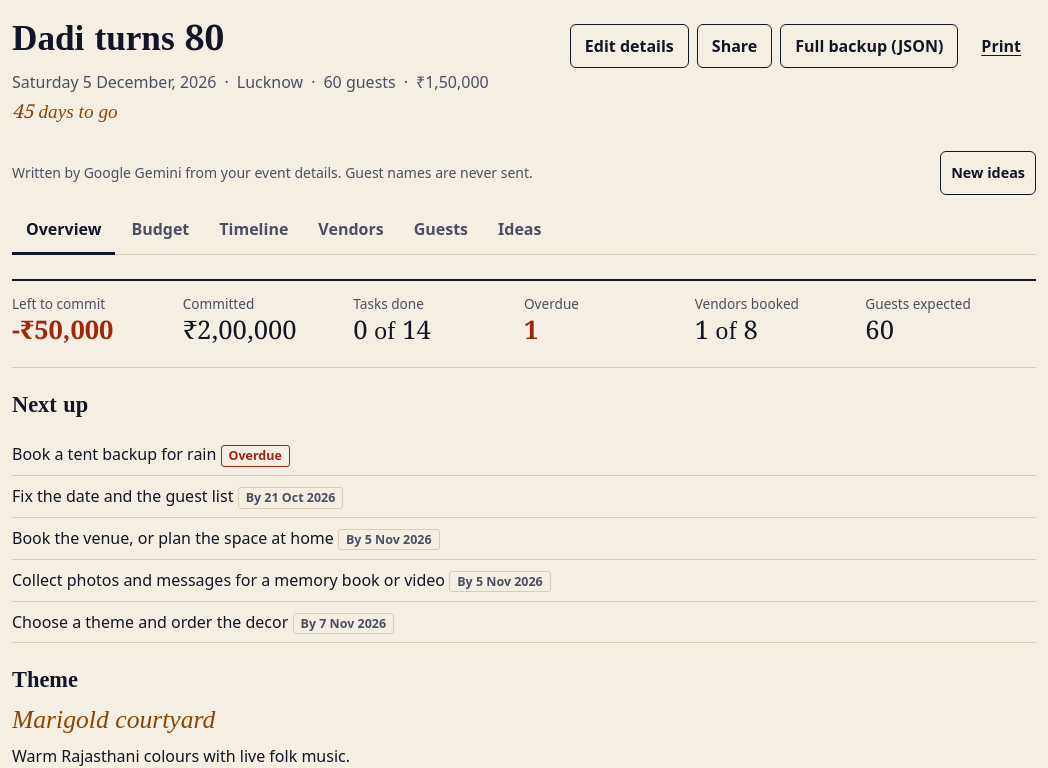
Test: budget › disables the limits and flags bookings over plan and over budget
The image size is (1048, 768).
Click the tab "Budget" at (160, 231), box [117,207,203,255]
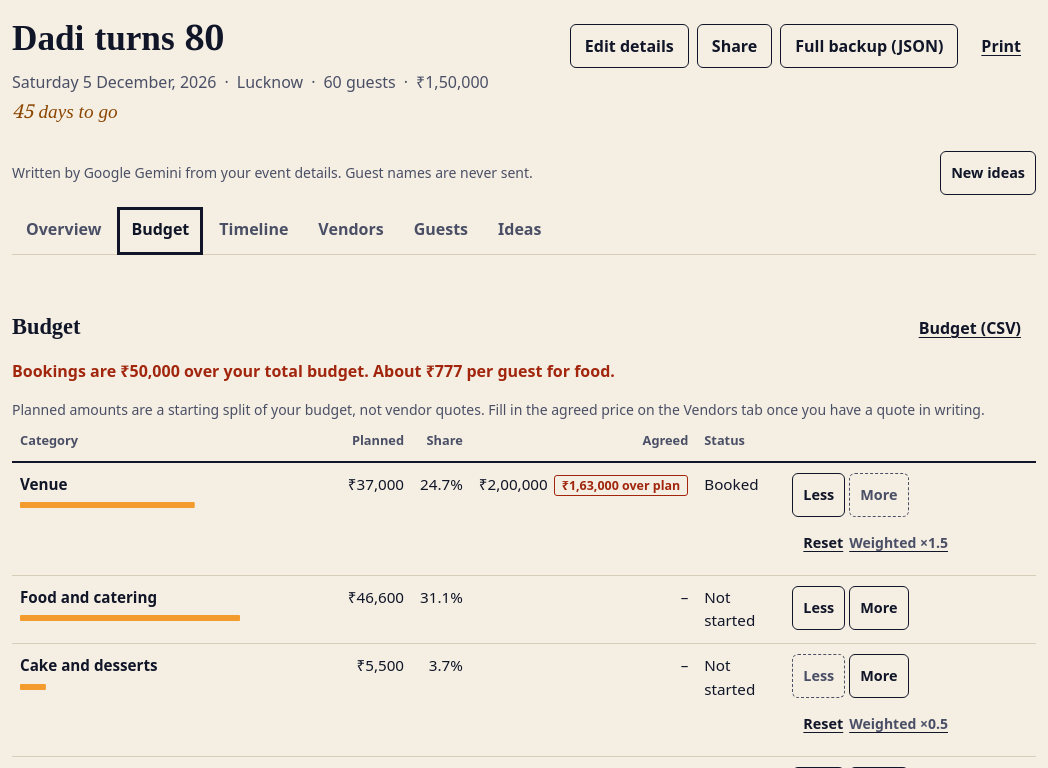
Expected: the text "Bookings are ₹50,000 over your total budget" is shown, [12,360,369,382]
Expected: the text "₹1,63,000 over plan" is shown, [554,475,688,496]
